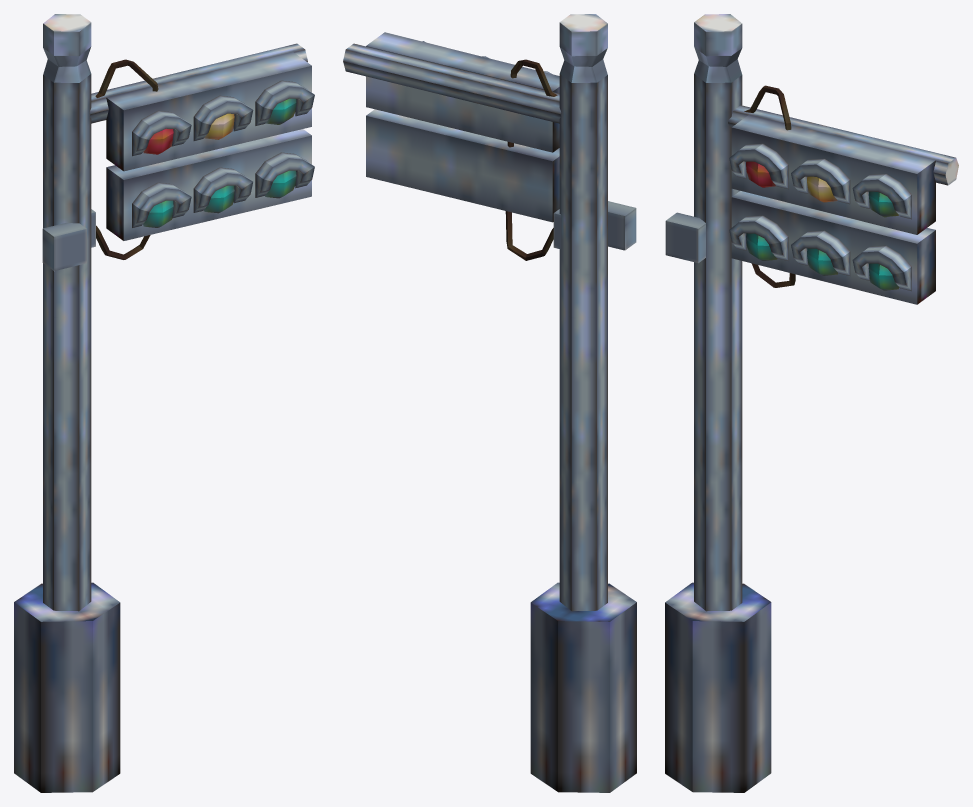
File: Poly_SF_Outside_B_Traffic_Light_01.obj
3 views of the same model, side by side, from view 1: azimuth 30°, elevation 25°; view 2: azimuth 150°, elevation 25°; view 3: azimuth 330°, elevation 25° (orthographic).
Parts seen in each view (by area): view 1: Cube.001, Cube.002, Cube.003, Cube.004, Cube.005; view 2: Cube.001, Cube.002, Cube.004, Cube.005; view 3: Cube.001, Cube.002, Cube.003, Cube.004, Cube.005.
Boxes of the visible parts, x1=… form: Cube.001: x1=14, y1=14, x2=307, y2=792; Cube.002: x1=106, y1=52, x2=311, y2=240; Cube.003: x1=132, y1=80, x2=314, y2=227; Cube.004: x1=42, y1=98, x2=296, y2=271; Cube.005: x1=95, y1=59, x2=158, y2=259; Cube.001: x1=343, y1=14, x2=636, y2=792; Cube.002: x1=366, y1=32, x2=559, y2=222; Cube.004: x1=553, y1=201, x2=636, y2=250; Cube.005: x1=505, y1=59, x2=557, y2=260; Cube.001: x1=665, y1=14, x2=958, y2=792; Cube.002: x1=731, y1=114, x2=935, y2=304; Cube.003: x1=729, y1=143, x2=911, y2=291; Cube.004: x1=665, y1=161, x2=899, y2=290; Cube.005: x1=744, y1=85, x2=795, y2=287.
Bounding box in the file's own units: 1.17 × 3.07 × 0.42.
Materials: 1 (1 with a texture image).
